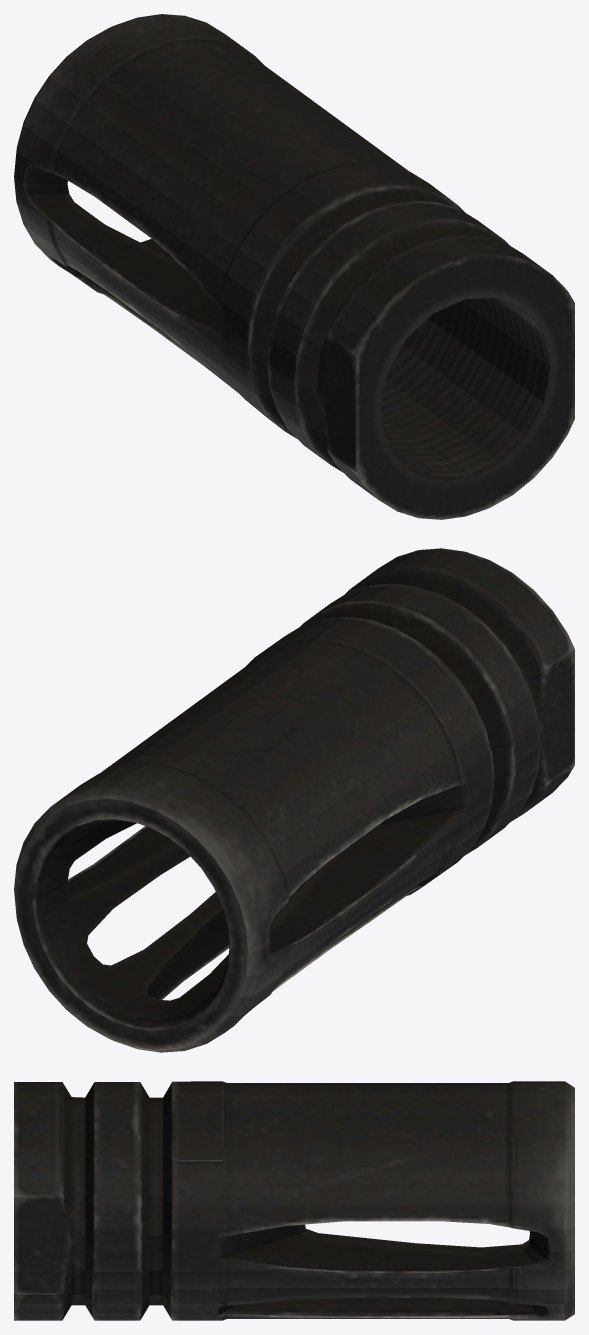
The picture shows the model from 3 angles, top to bottom: view 1: azimuth 30°, elevation 25°; view 2: azimuth 150°, elevation 25°; view 3: azimuth 270°, elevation 25°; orthographic projection. The views are drawn at different scales.
Visible parts, largest first — view 1: TW_5f2aa4559b44de6b1b4e68d1_PZ_Import; view 2: TW_5f2aa4559b44de6b1b4e68d1_PZ_Import; view 3: TW_5f2aa4559b44de6b1b4e68d1_PZ_Import.
Boxes of the visible parts, x1,y1,x2,y2 form: TW_5f2aa4559b44de6b1b4e68d1_PZ_Import: (14, 14, 574, 519); TW_5f2aa4559b44de6b1b4e68d1_PZ_Import: (14, 548, 574, 1052); TW_5f2aa4559b44de6b1b4e68d1_PZ_Import: (14, 1081, 574, 1320).
Bounding box in the file's own units: 0.0125 × 0.0292 × 0.0125.
1 material, 1 textured.
